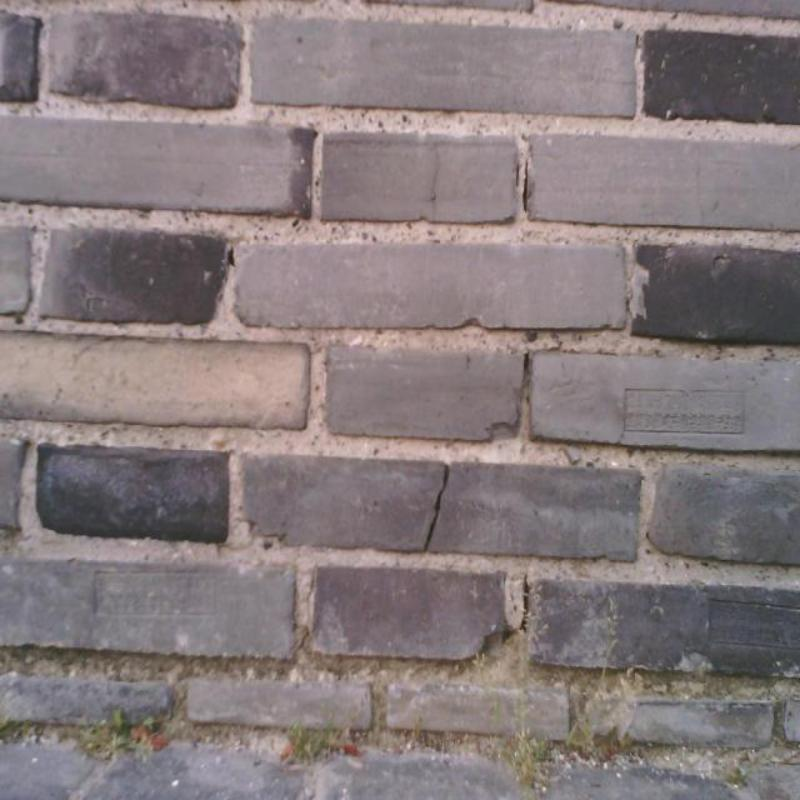pothole: (425, 465, 448, 549), (520, 581, 529, 631), (522, 159, 529, 210), (228, 248, 235, 266), (515, 165, 520, 186), (524, 354, 529, 369)
